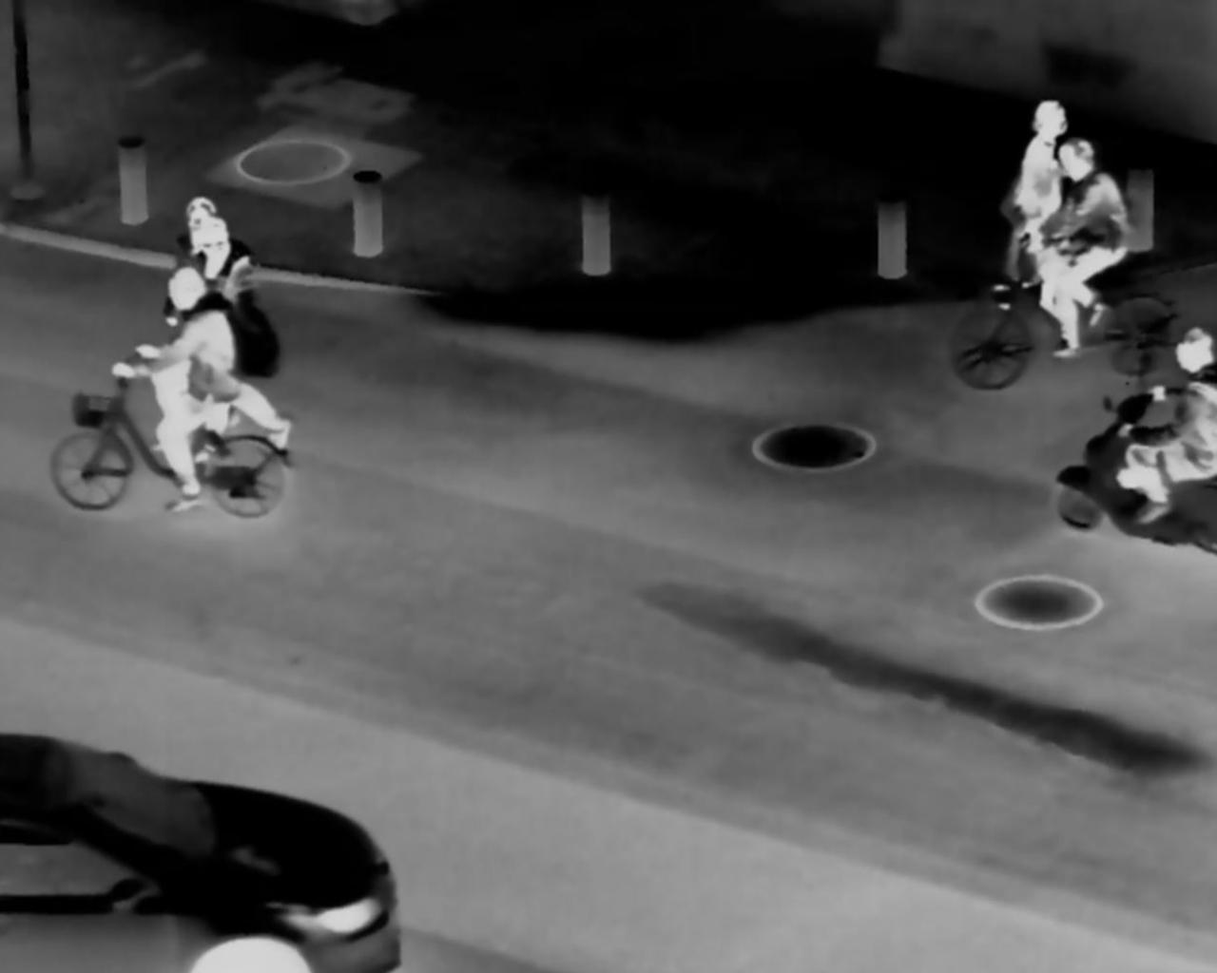person: (115, 265, 224, 515), (1130, 321, 1217, 541), (1045, 142, 1131, 352), (1004, 103, 1072, 227), (192, 215, 254, 297), (176, 201, 228, 262)
